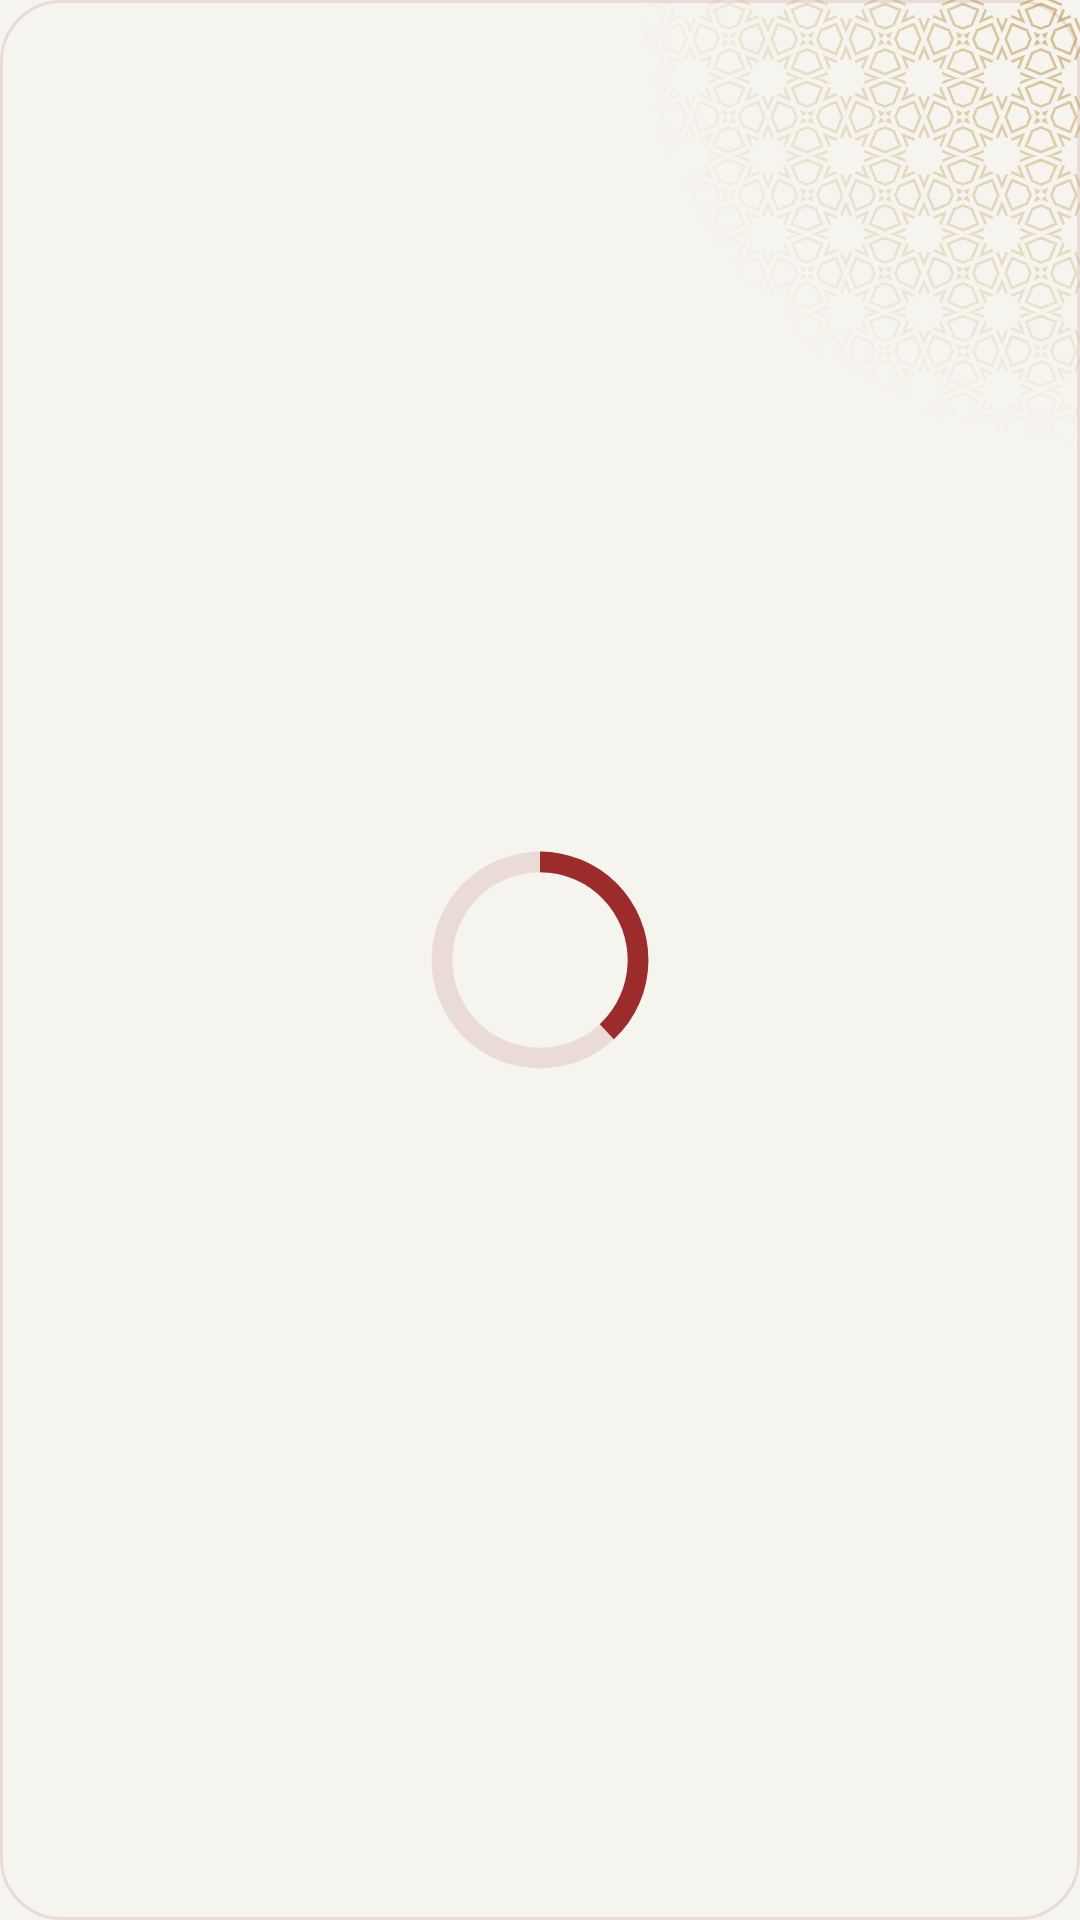

Locate icon controls on the screen. Image size 1080×1920, boxes as (x1, y1, x2, y2).
widget orn band: (737, 0, 1080, 343)
